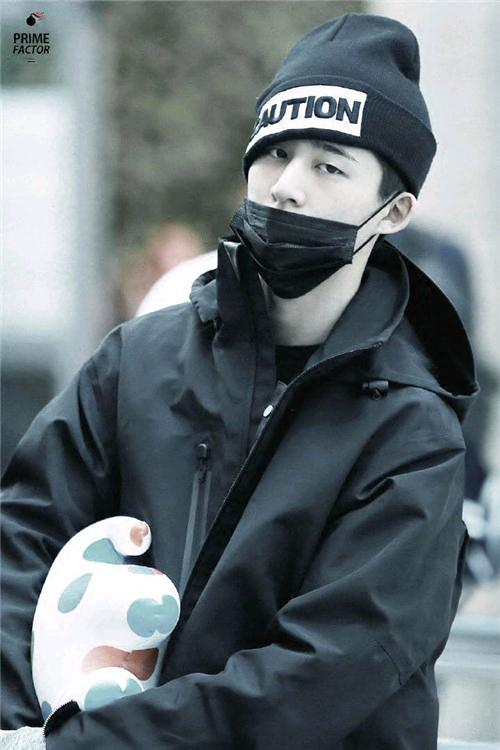WRONG: (242, 123, 386, 267)
